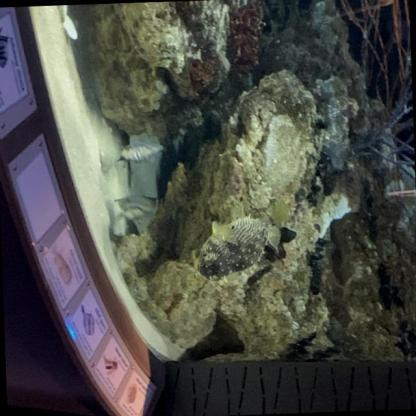fish: (194, 213, 282, 282), (112, 193, 160, 234), (113, 140, 166, 164)
